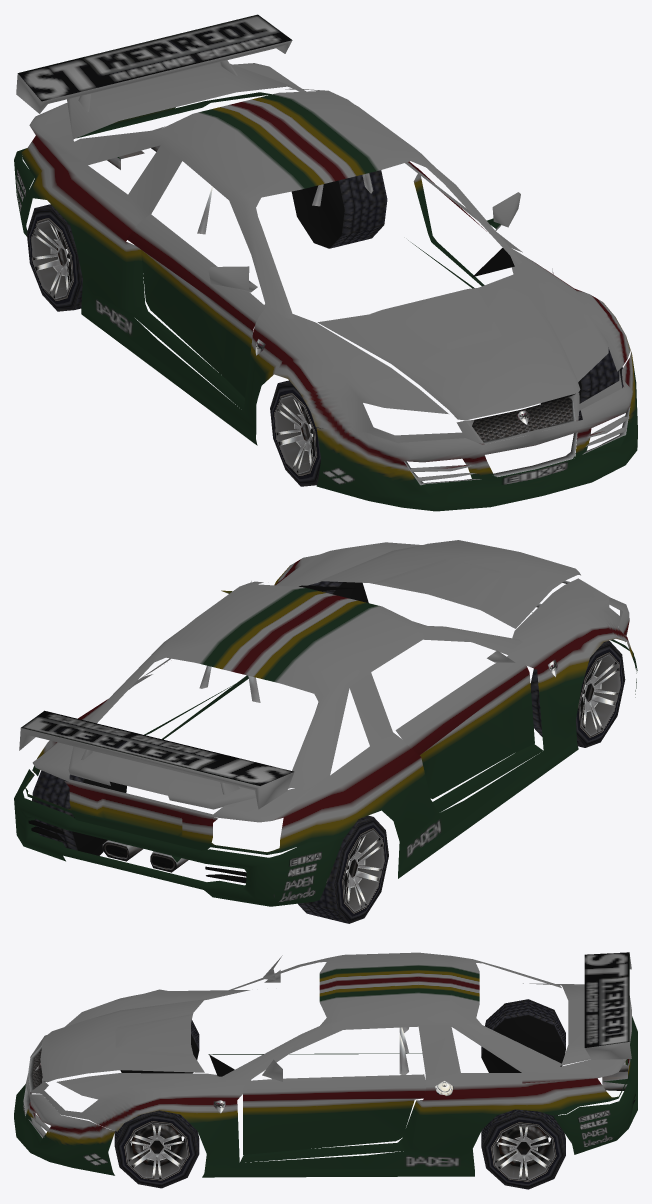
The model's file is car-CUPE_Car5.glb.
The picture shows the model from 3 angles, top to bottom: view 1: azimuth 30°, elevation 25°; view 2: azimuth 150°, elevation 25°; view 3: azimuth 270°, elevation 25°; orthographic projection. The views are drawn at different scales.
Visible parts, largest first — view 1: CUPE_Car5; view 2: CUPE_Car5; view 3: CUPE_Car5.
Boxes of the visible parts, bbox=[...] form: CUPE_Car5: bbox=[14, 14, 637, 511]; CUPE_Car5: bbox=[14, 540, 637, 923]; CUPE_Car5: bbox=[14, 952, 637, 1189].
Bounding box in the file's own units: 2.2 × 1.32 × 4.85.
19 materials, 19 textured.
